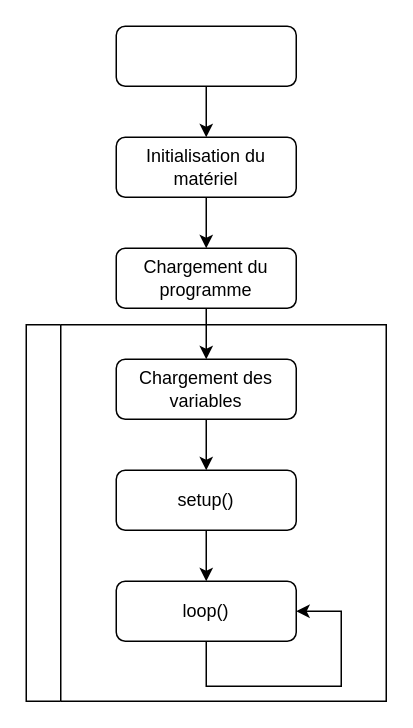
Some shapes in this 413 by 728 pixel diagram are drawn without their labels. The shapes that lost their labels are listed below. From the top down, each one's box as (x1, y1, x2, y2) in pixels, then its label:
(115, 25, 296, 86): Alimentation du microcontrôleur
(25, 323, 386, 701): Exécution du programme
